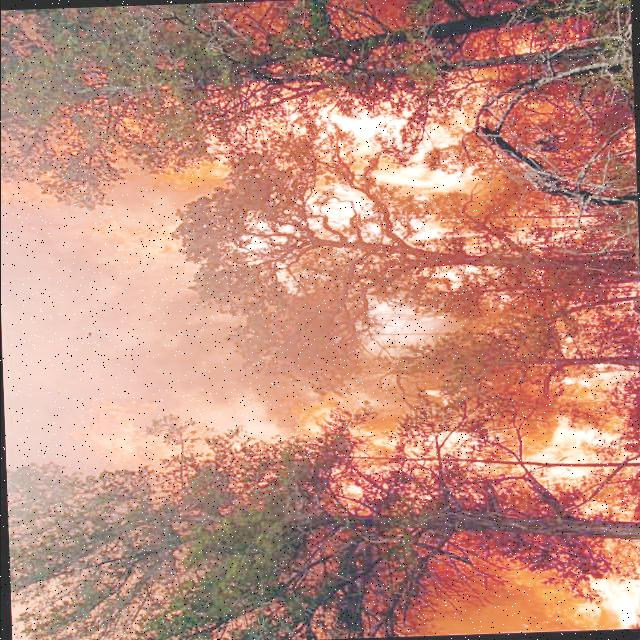api: (328, 108, 471, 210), (536, 377, 635, 493), (551, 562, 640, 625), (232, 414, 320, 440)
asap: (4, 214, 176, 444), (184, 318, 326, 412), (413, 589, 540, 640)
